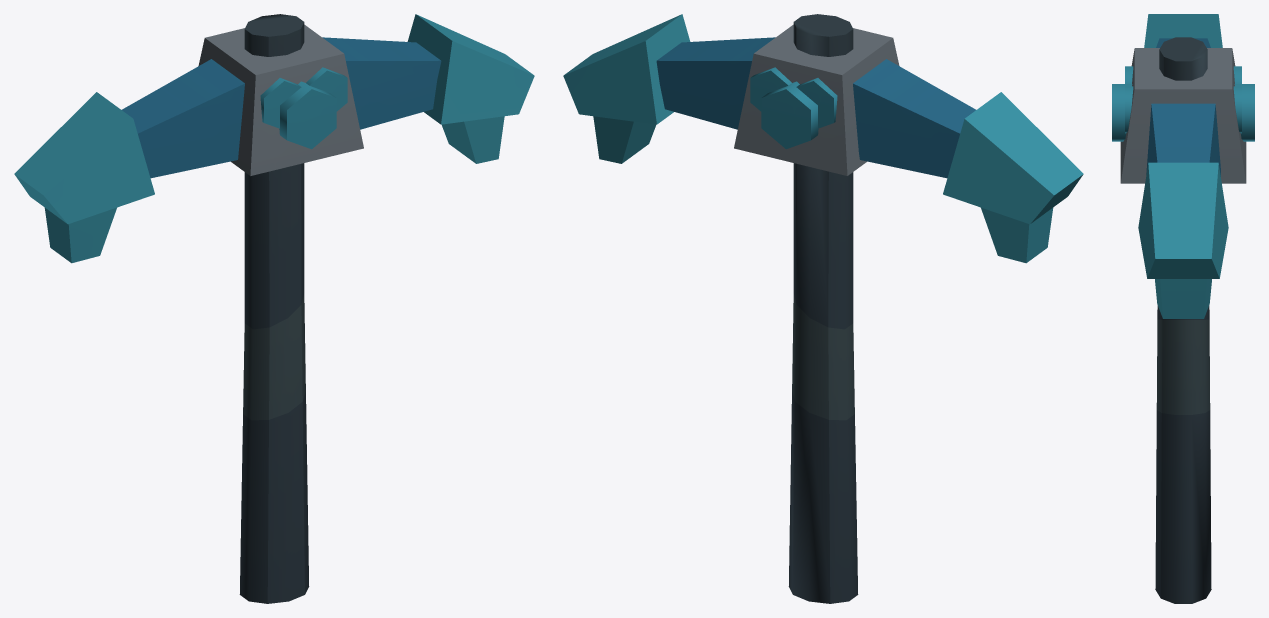
File: 08_pickaxe_Lazurit.fbx
3 views of the same model, side by side, from view 1: azimuth 30°, elevation 25°; view 2: azimuth 150°, elevation 25°; view 3: azimuth 270°, elevation 25° (orthographic). The views are drawn at different scales.
Parts seen in each view (by area): view 1: 08_pickaxe_Lazurit; view 2: 08_pickaxe_Lazurit; view 3: 08_pickaxe_Lazurit.
Boxes of the visible parts, <box> form: 08_pickaxe_Lazurit: <box>14,14,534,603</box>; 08_pickaxe_Lazurit: <box>563,14,1083,603</box>; 08_pickaxe_Lazurit: <box>1112,14,1254,603</box>.
Size of the model in its own units: 102 by 112 by 26.76.
